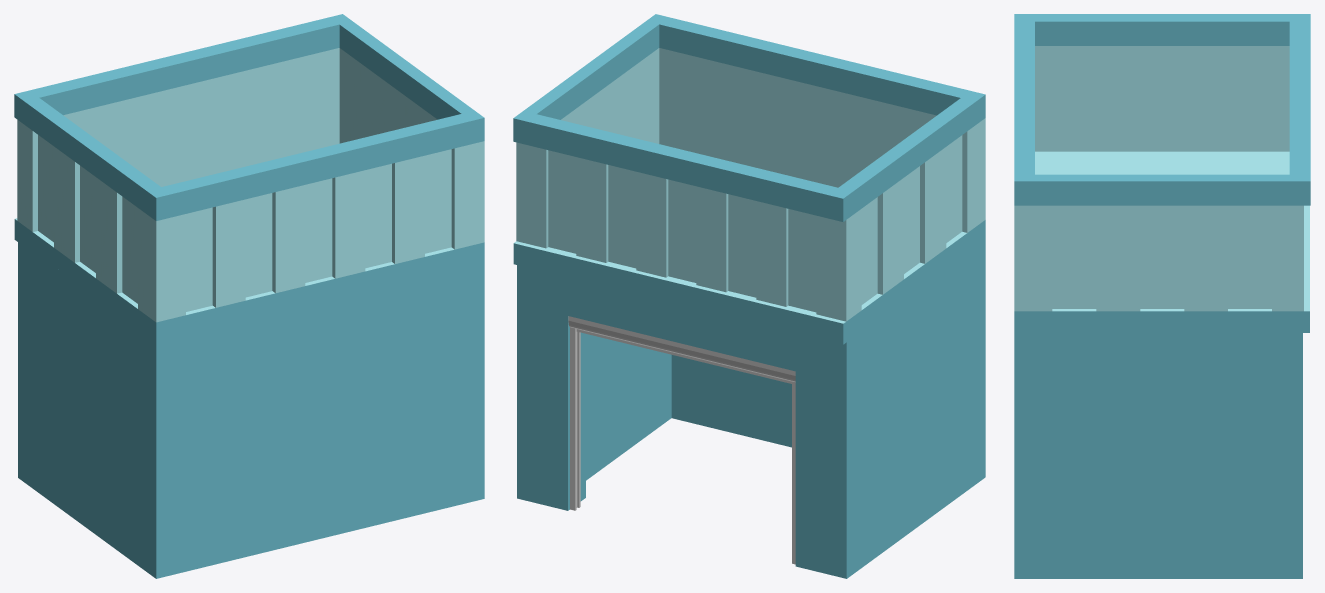
The model's file is smallshop.fbx.
3 renders of one model, left to right at view 1: azimuth 30°, elevation 25°; view 2: azimuth 150°, elevation 25°; view 3: azimuth 270°, elevation 25°, orthographic. The views are drawn at different scales.
Visible parts, largest first — view 1: Roof, smallshop; view 2: Roof, smallshop, Cube.360, Cube.358, Cube.361, Cube.359; view 3: Roof, smallshop.
Boxes of the visible parts, box(x1,y1,x2,y2) form: Roof: box(14, 14, 484, 343); smallshop: box(18, 240, 484, 578); Roof: box(513, 14, 985, 344); smallshop: box(517, 238, 985, 578); Cube.360: box(568, 316, 795, 382); Cube.358: box(570, 327, 580, 510); Cube.361: box(792, 381, 795, 564); Cube.359: box(576, 329, 791, 383); Roof: box(1014, 14, 1310, 332); smallshop: box(1014, 333, 1302, 578).
Bounding box in the file's own units: 9.09 × 10.08 × 6.8.
